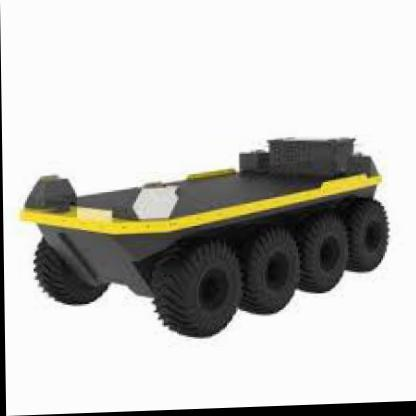UGV: (18, 137, 390, 347)
